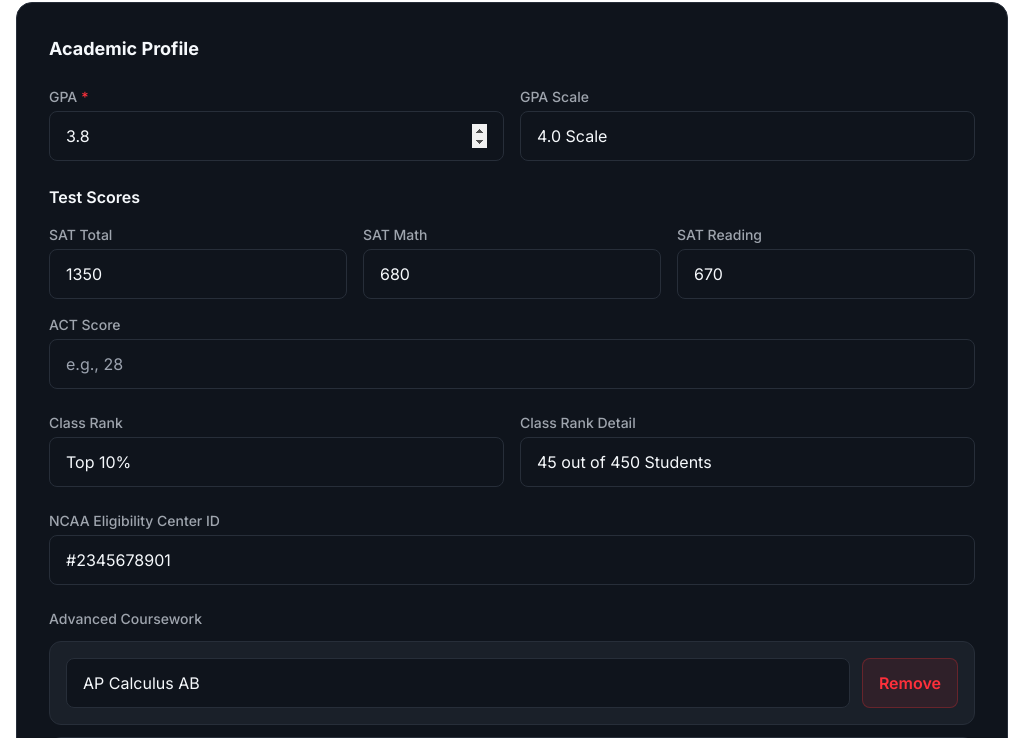
Test: AcademicProfileSection - Inline Editing › Validation for test scores (Requirements 4.1, 4.2, 4.3) › displays error when SAT score is below 400
This screenshot has width=1024, height=738.
# Set SAT score below minimum
Step 1. Replace the text in the number field labelled "SAT Total" with "300" → (198, 274), box x1=49 y1=249 x2=347 y2=299
(page scrolled)
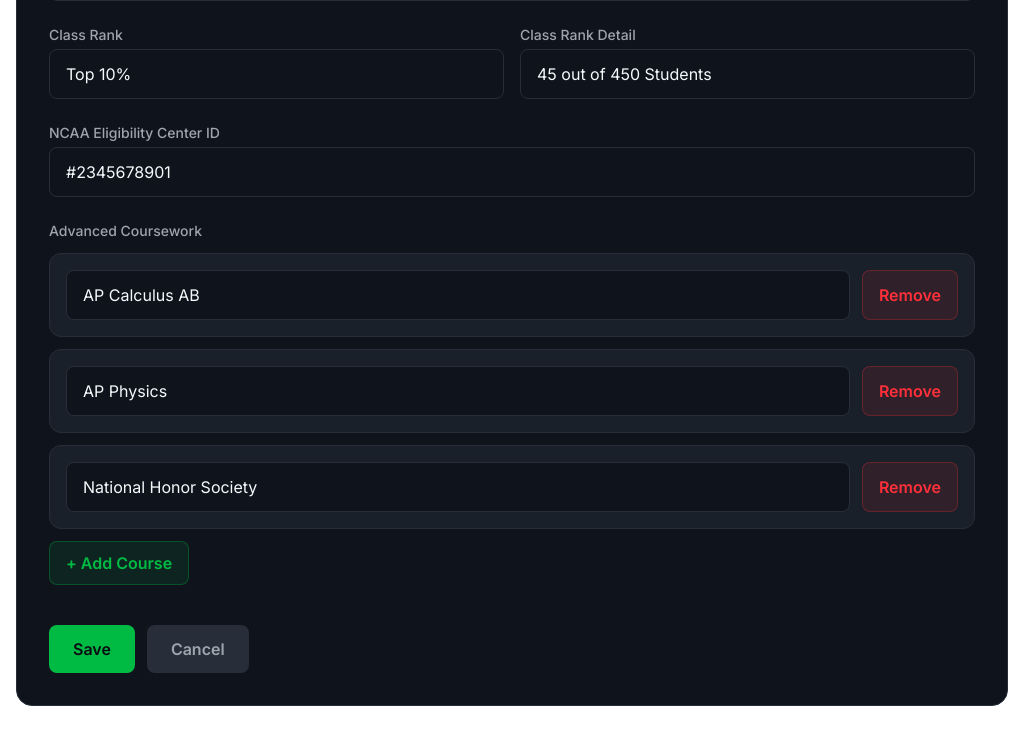
# Click save
Step 2. Click the button "Save" → click(92, 649), box x1=49 y1=625 x2=135 y2=673
(page scrolled)
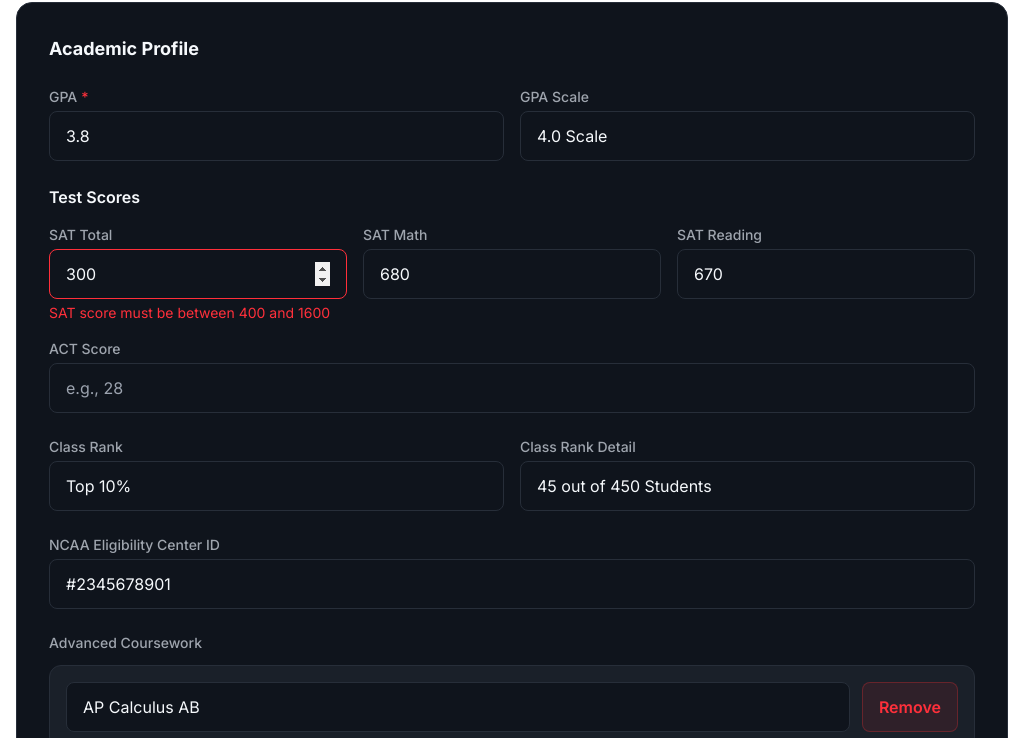
Expected: the text "SAT score must be between 400 and 1600" is shown, x1=49 y1=303 x2=347 y2=323
